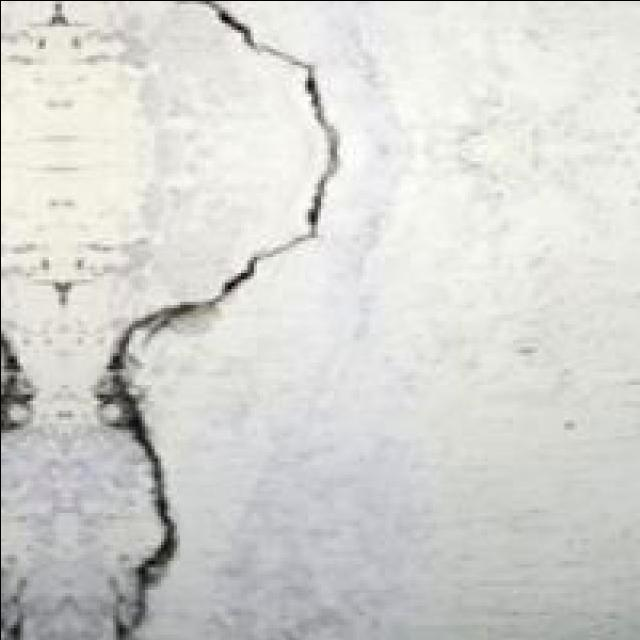SurfaceCrack: (100, 0, 360, 640)
